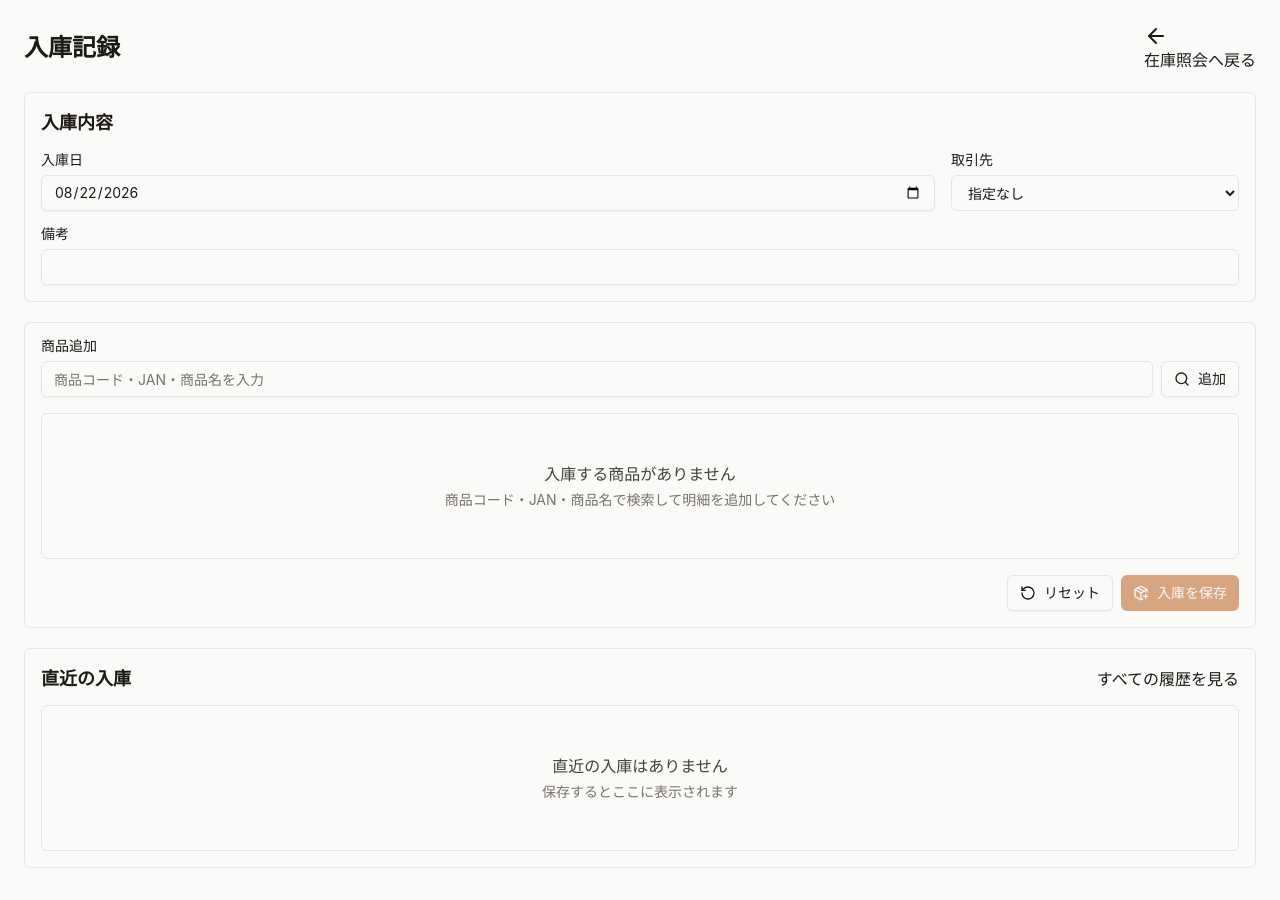
Test case: ReceivingPage ProductAddSuggest (UI-02-D14) › W9: 入庫保存eventで表示中候補を同期closeする
The image size is (1280, 900).
Type "RC-S1" into the dropdown named "入庫商品検索".
click(597, 379); type("RC-S1")  # box [41, 361, 1153, 397]
Then press Enter
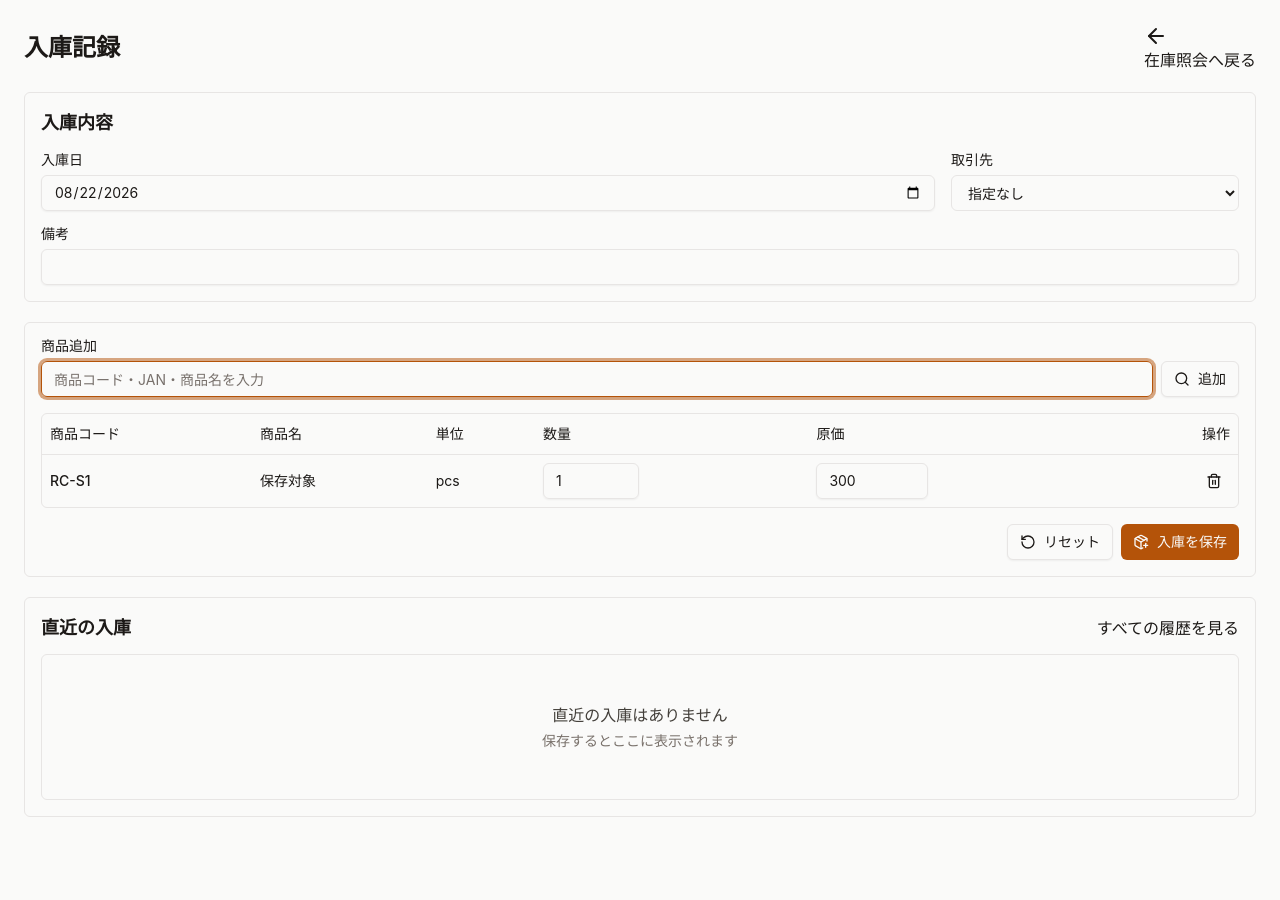
Expected: the text "保存対象" is shown, [252, 454, 428, 506]
Type "保存前" into the dropdown named "入庫商品検索".
click(597, 379); type("保存前")  # box [41, 361, 1153, 397]
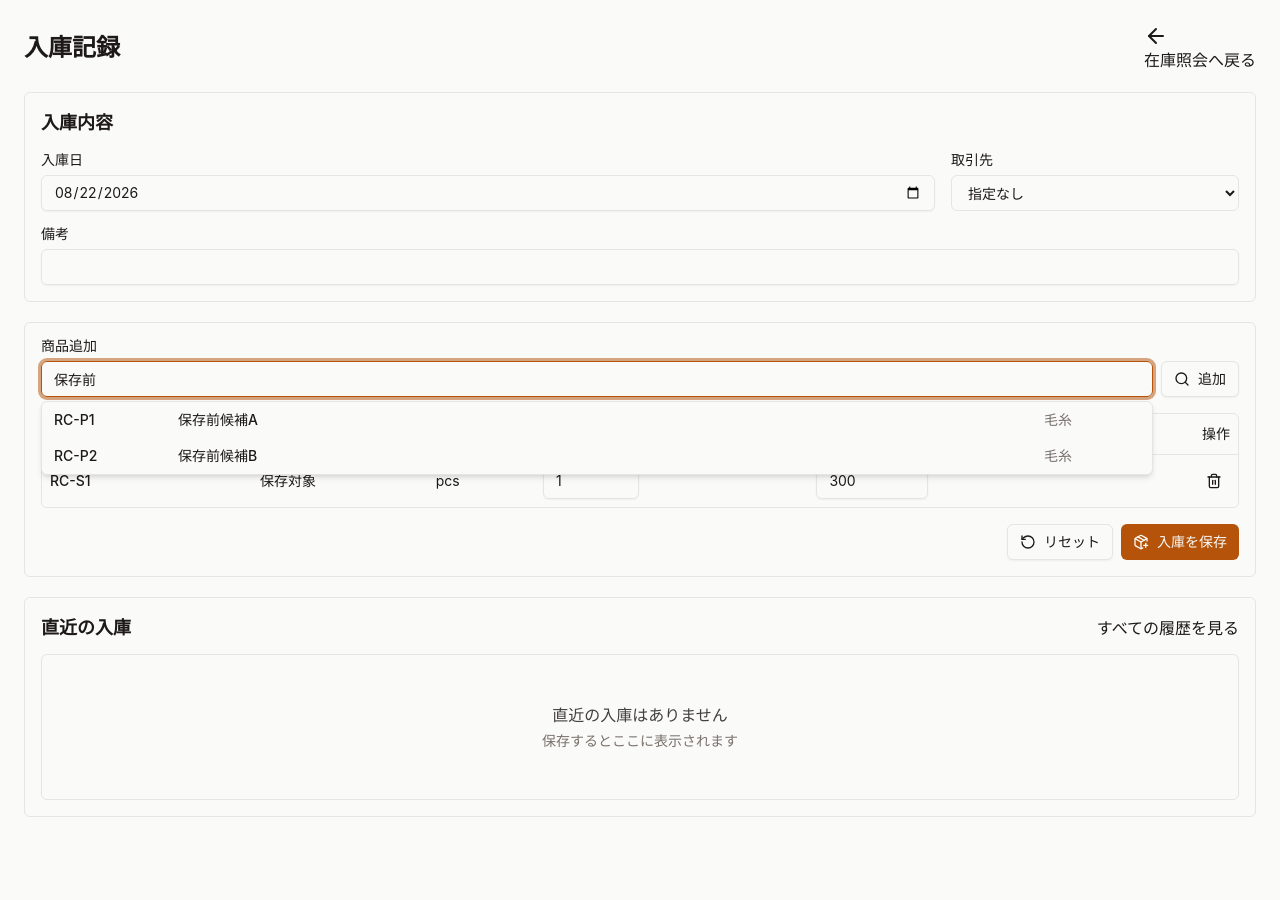
Expected: the list is shown, [41, 401, 1153, 475]
Click the button "入庫を保存".
click(1180, 542)  # box [1121, 524, 1239, 560]
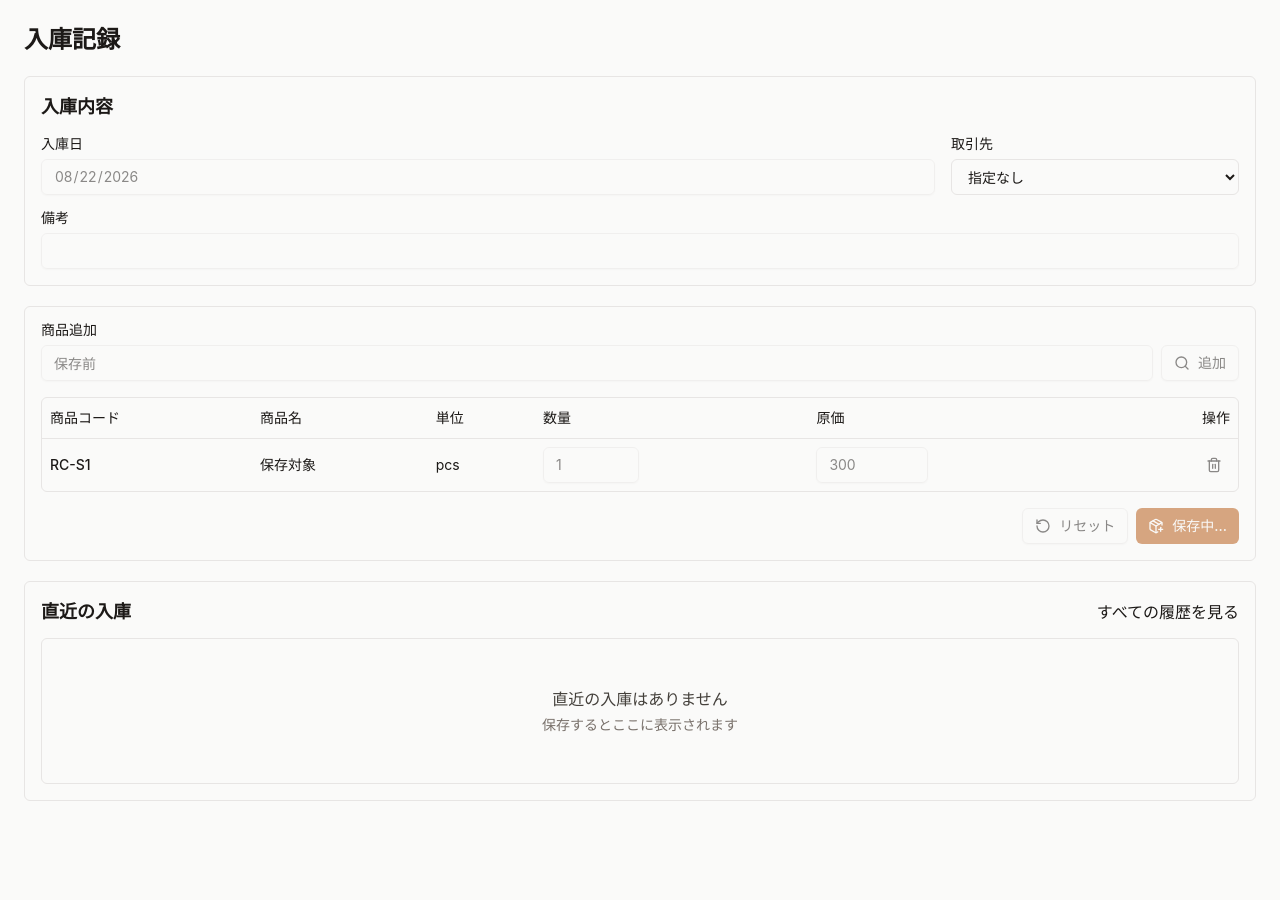
Expected: the list is gone
